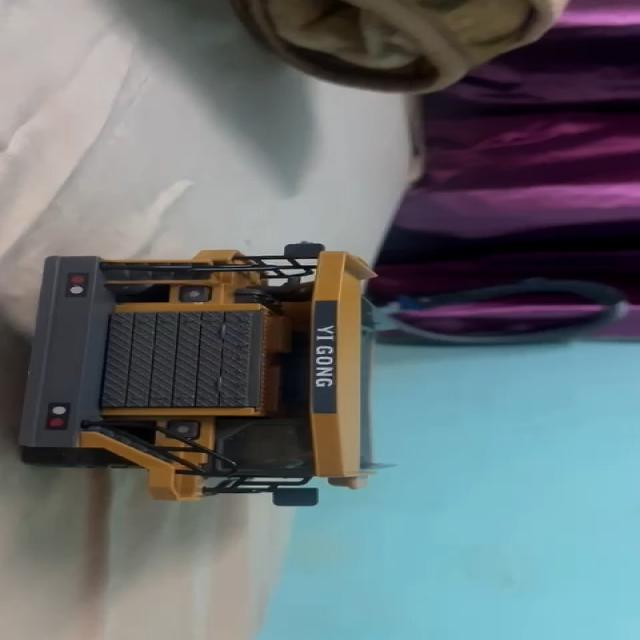dump_truck: (9, 245, 387, 513)
